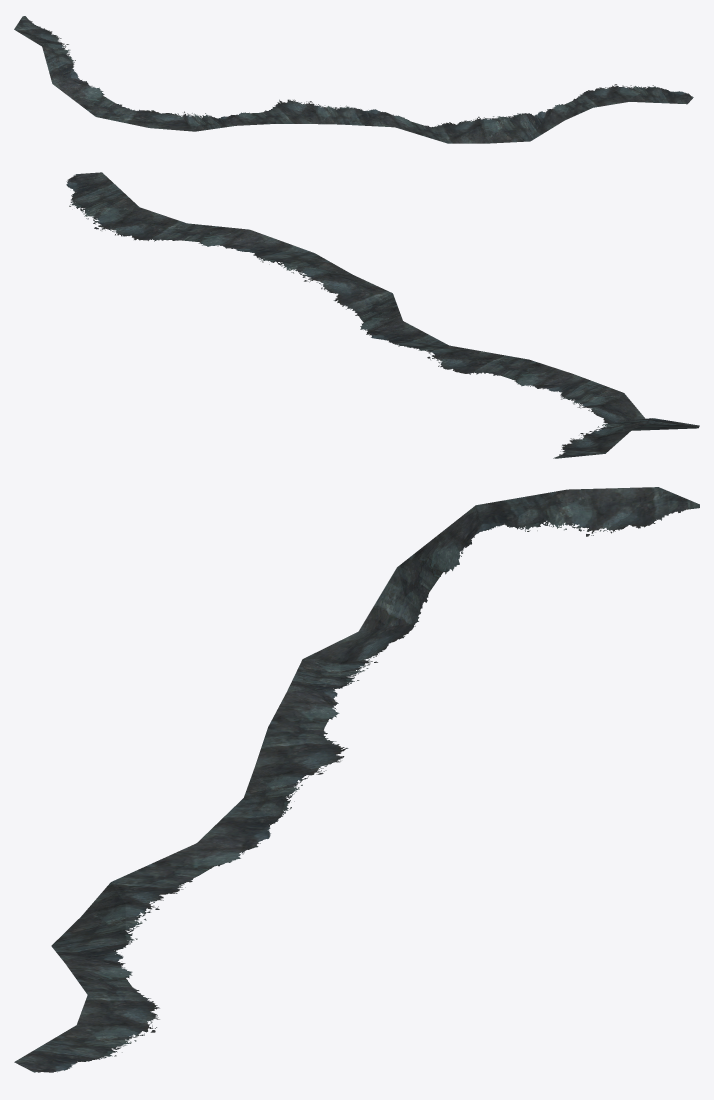
The model's file is blend_weeds16.fbx.
The picture shows the model from 3 angles, top to bottom: view 1: azimuth 30°, elevation 25°; view 2: azimuth 150°, elevation 25°; view 3: azimuth 270°, elevation 25°; orthographic projection. The views are drawn at different scales.
Parts seen in each view (by area): view 1: obj0.037; view 2: obj0.037; view 3: obj0.037.
Part boxes in pixels (x1,y1,x2,y2): obj0.037: (14,16,693,143); obj0.037: (66,172,699,458); obj0.037: (14,487,699,1072).
Bounding box in the file's own units: 39.85 × 5.5 × 23.93.
